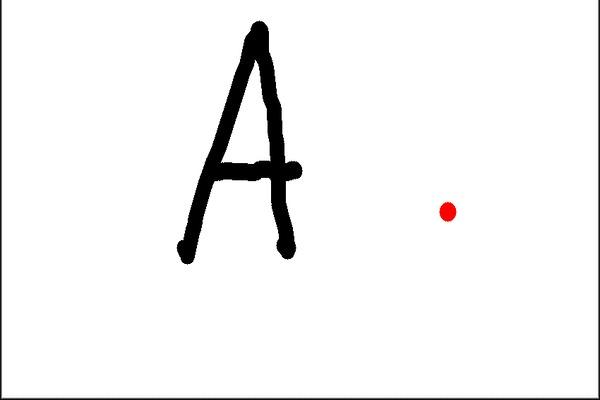A: (156, 14, 316, 271)
